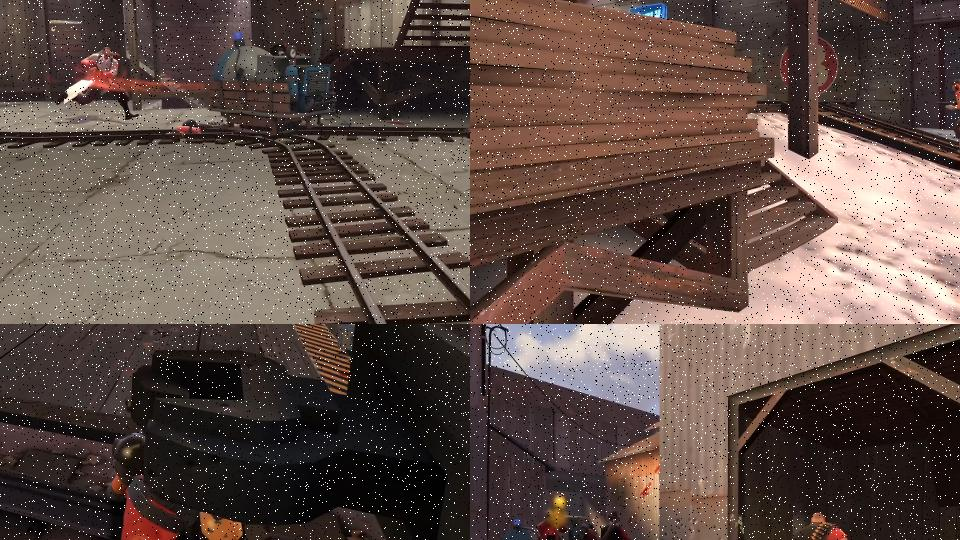Enemy: (55, 45, 140, 122), (790, 510, 881, 540), (934, 78, 960, 156), (169, 121, 240, 138), (597, 509, 632, 540), (535, 510, 568, 540), (570, 521, 599, 540)
